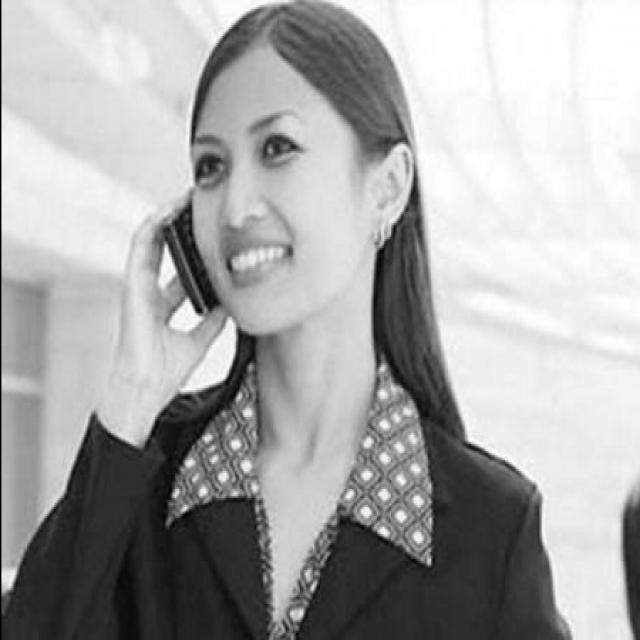phone: (136, 124, 238, 338)
